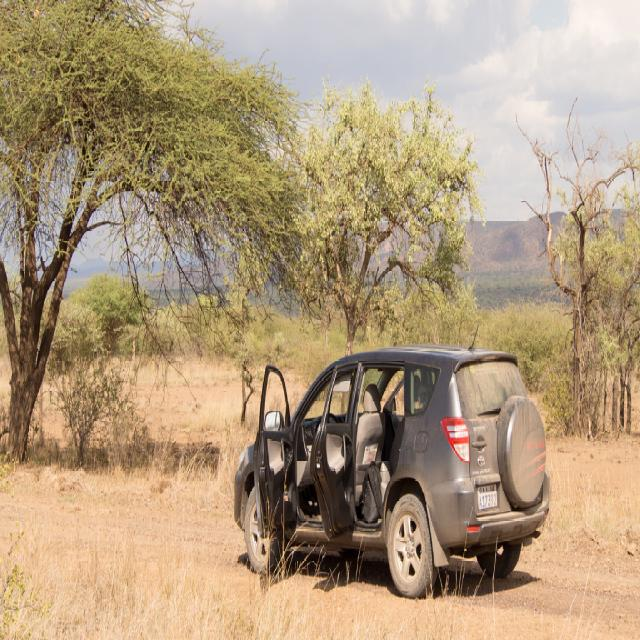car: (228, 330, 538, 592)
